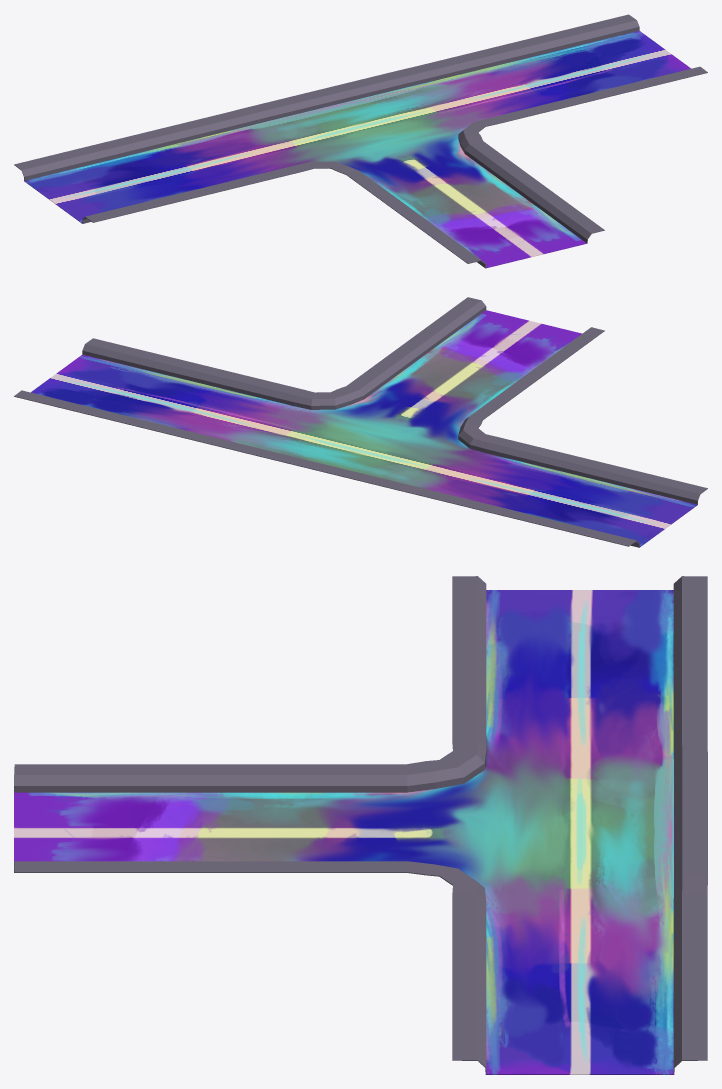
File: SUP_ARCH_RoadT-Juction.fbx
The picture shows the model from 3 angles, top to bottom: view 1: azimuth 30°, elevation 25°; view 2: azimuth 150°, elevation 25°; view 3: azimuth 270°, elevation 25°; orthographic projection. The views are drawn at different scales.
Parts seen in each view (by area): view 1: T-road-quantick; view 2: T-road-quantick; view 3: T-road-quantick.
Boxes of the visible parts, left/top/right/bottom form: T-road-quantick: left=14, top=14, right=707, bottom=268; T-road-quantick: left=14, top=297, right=707, bottom=547; T-road-quantick: left=14, top=576, right=707, bottom=1074.
Bounding box in the file's own units: 3204 × 46.21 × 1941.
2 materials, 1 textured.
